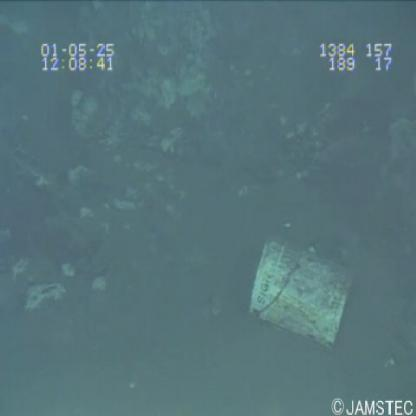Rác: (243, 231, 362, 362)
